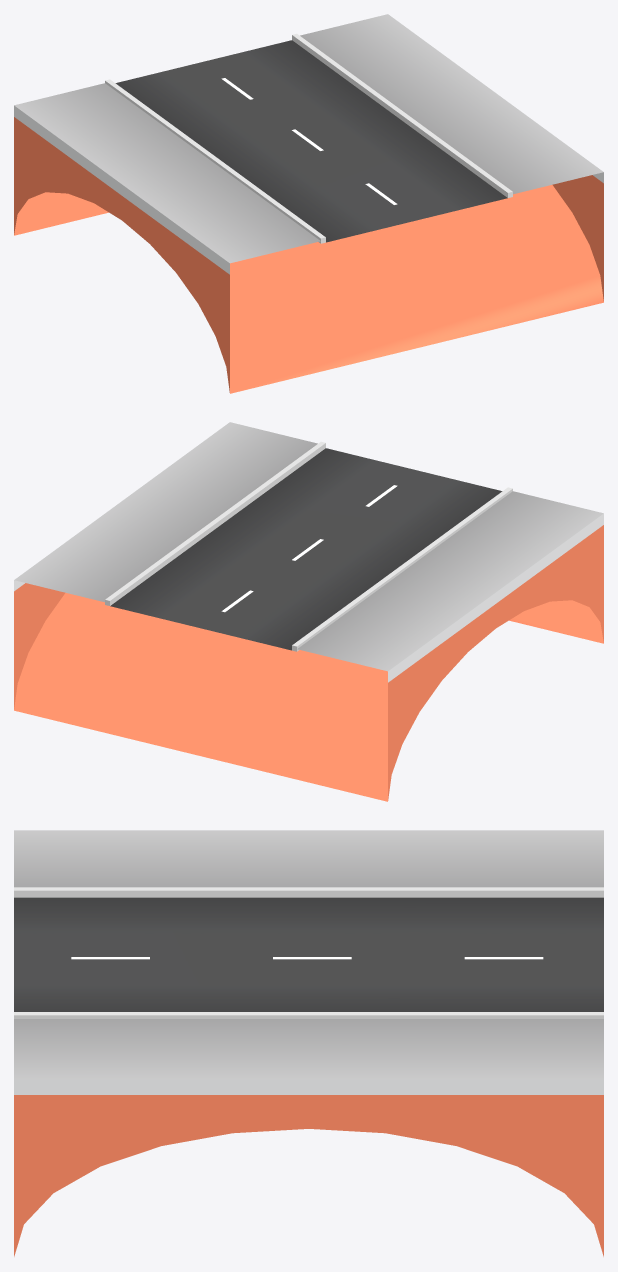
File: road_024.glb
3 views of the same model, one above another, from view 1: azimuth 30°, elevation 25°; view 2: azimuth 150°, elevation 25°; view 3: azimuth 270°, elevation 25° (orthographic). The views are drawn at different scales.
Visible parts, largest first — view 1: road_024; view 2: road_024; view 3: road_024.
Boxes of the visible parts, left/top/right/bottom form: road_024: left=14, top=14, right=603, bottom=393; road_024: left=14, top=422, right=603, bottom=801; road_024: left=14, top=830, right=603, bottom=1256.
Size of the model in its own units: 15 by 5.1 by 15.
Materials: 1 (1 with a texture image).
